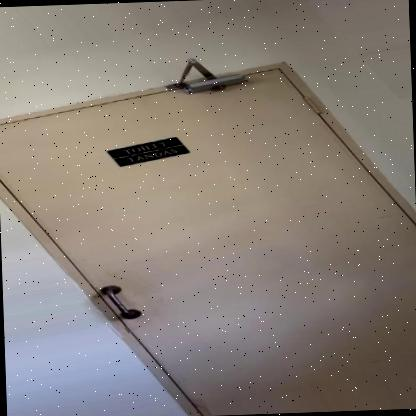door: (0, 44, 414, 405)
